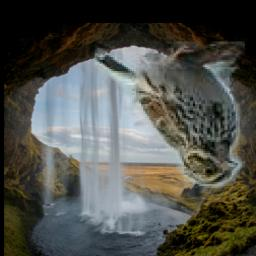Sparrow: (94, 42, 245, 189)
